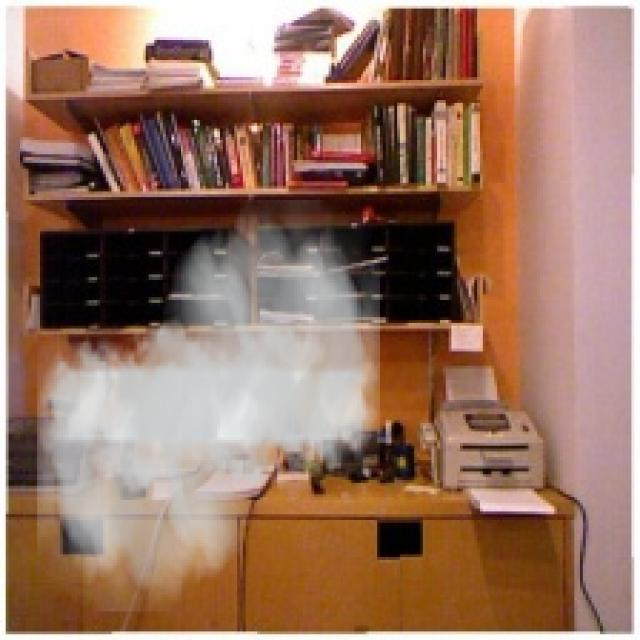smoke: (37, 200, 380, 611)
